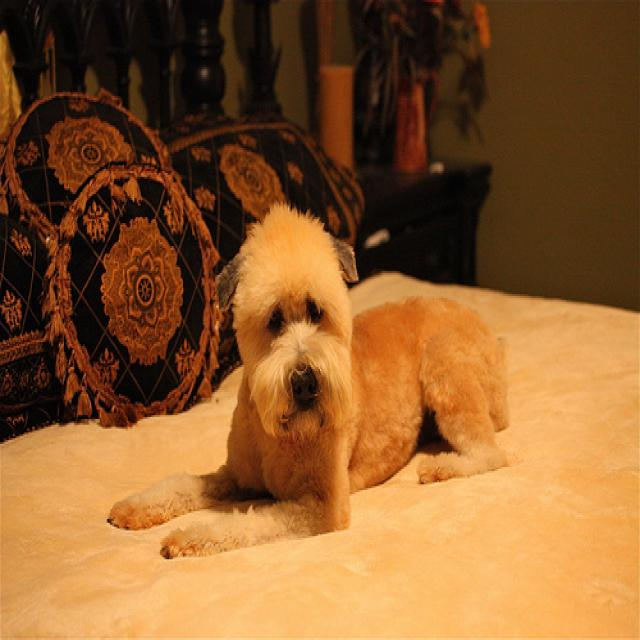dog-wheaten_terrier: (100, 190, 520, 563)
